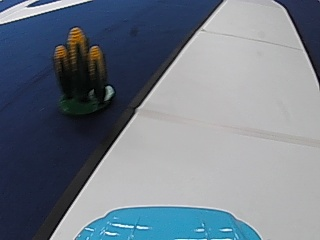corn: (52, 25, 113, 119)
